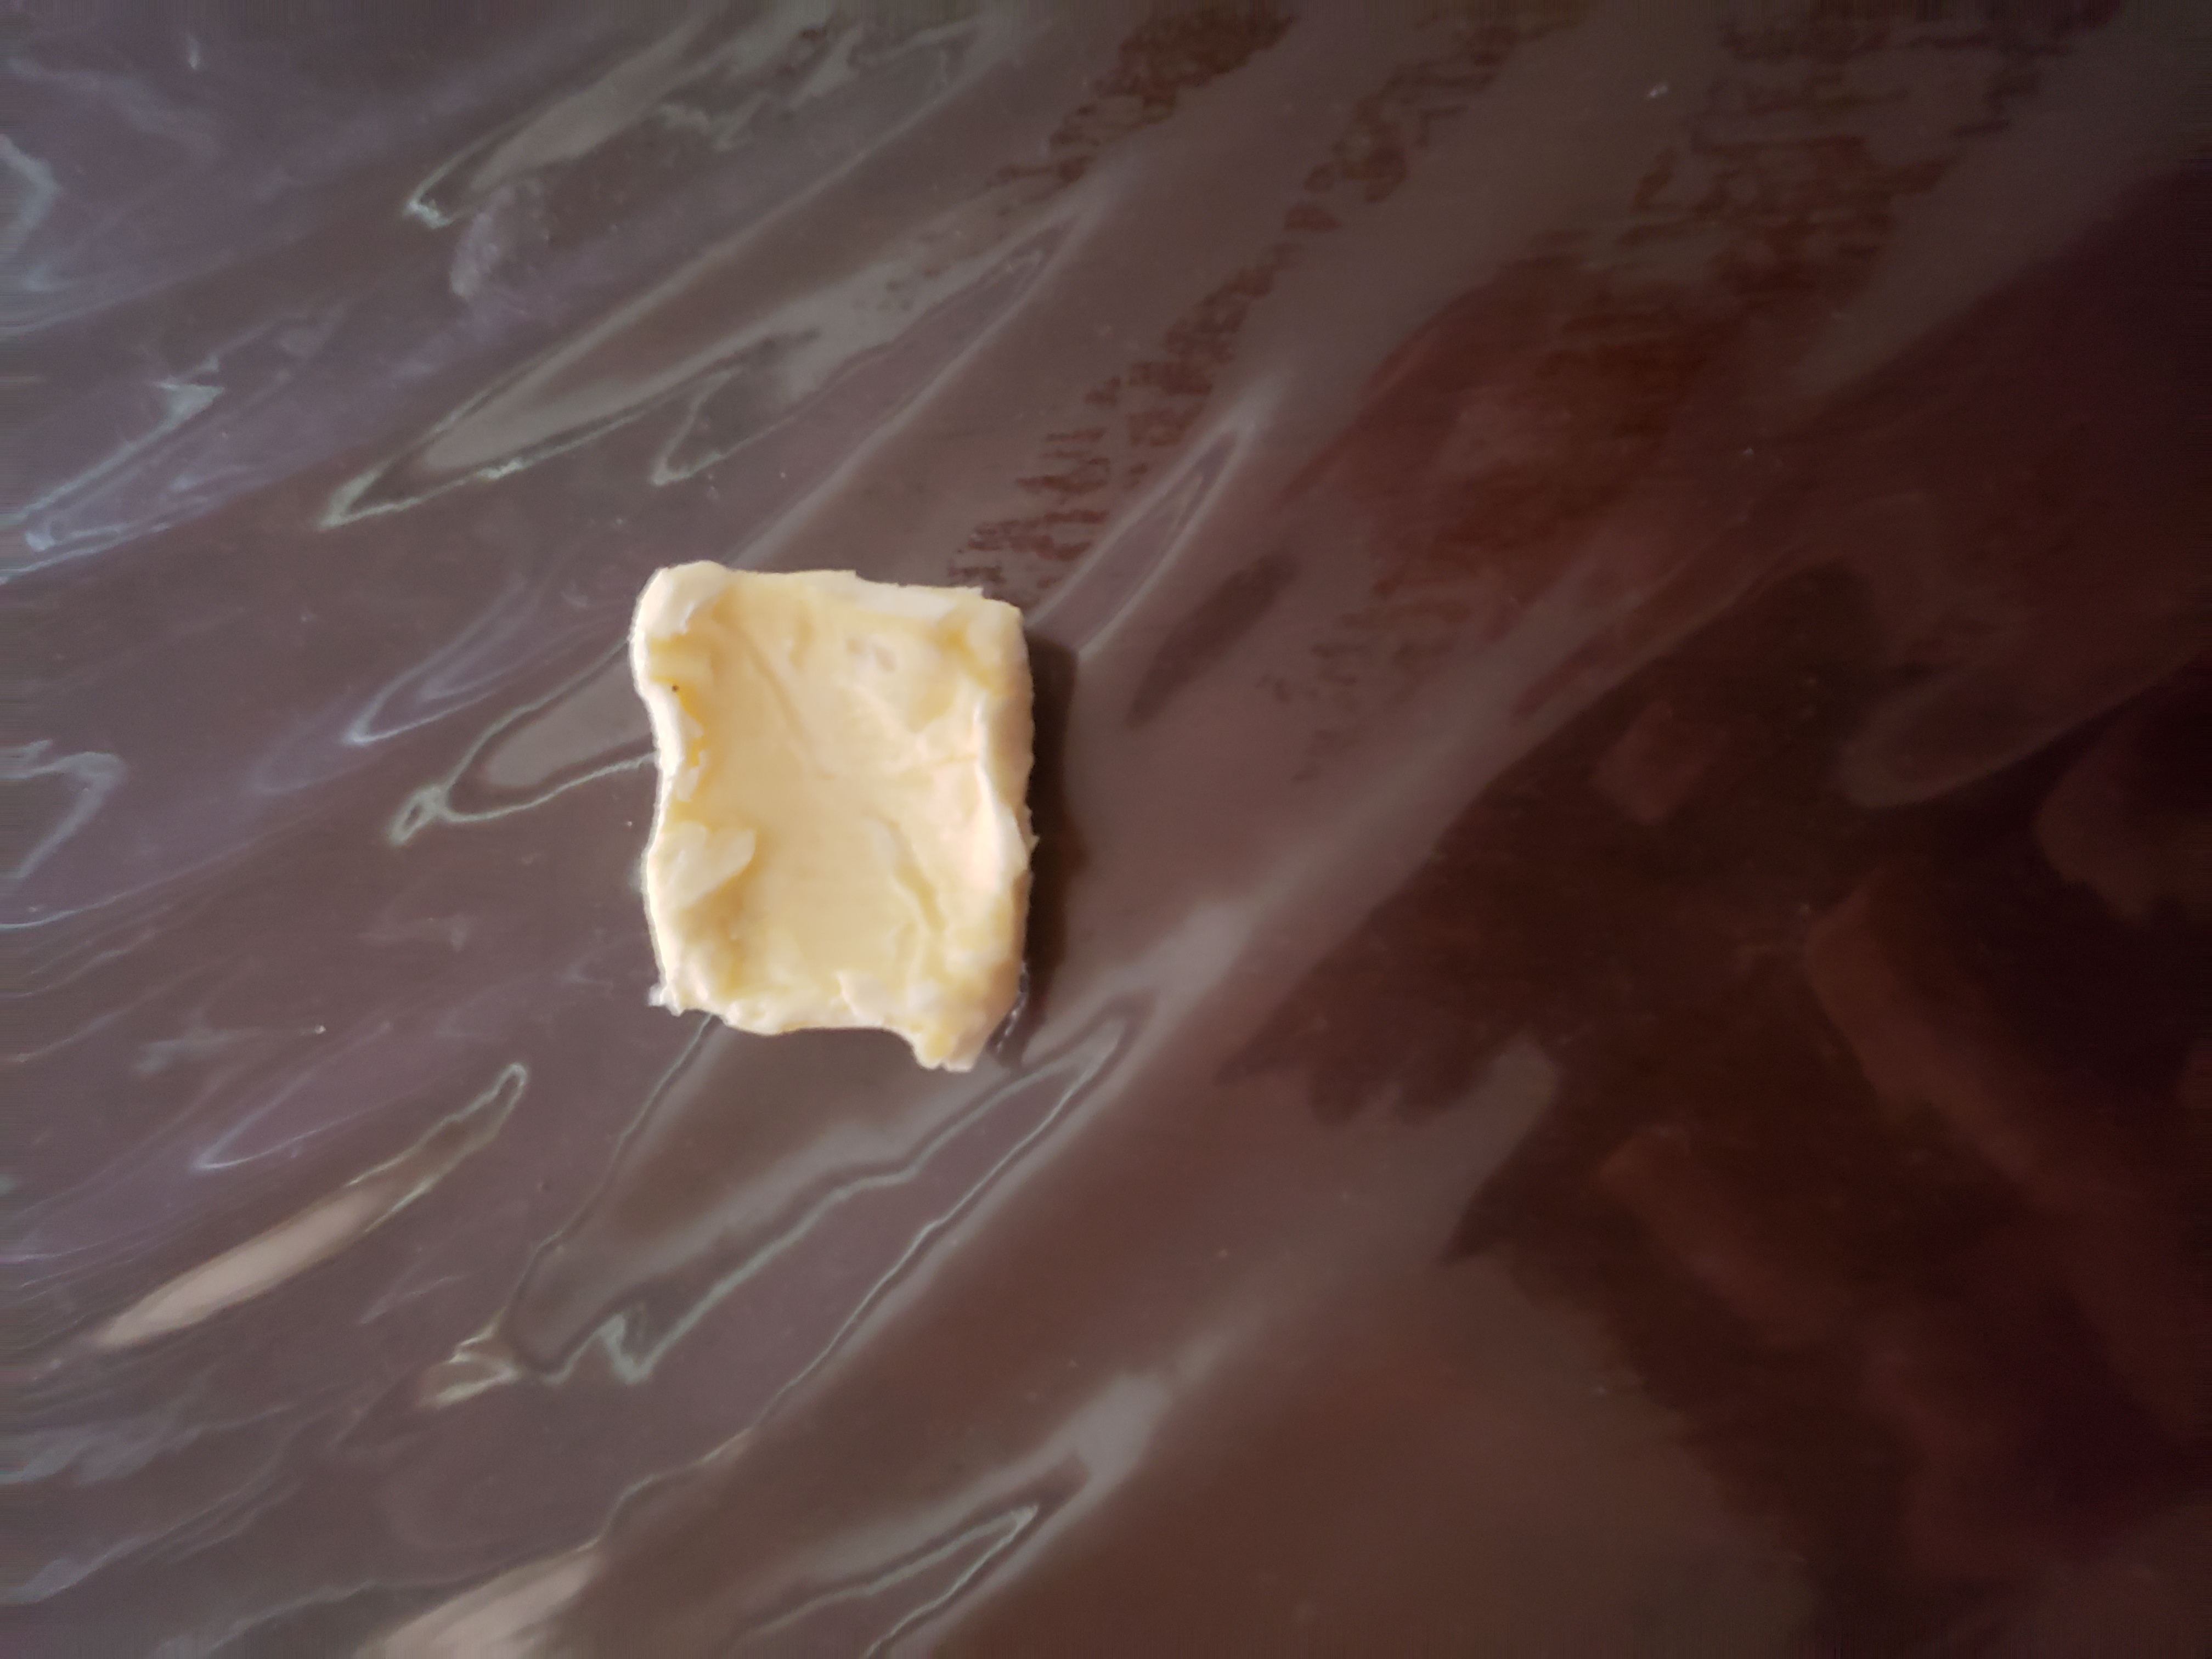Butter: (632, 558, 1040, 1070)
